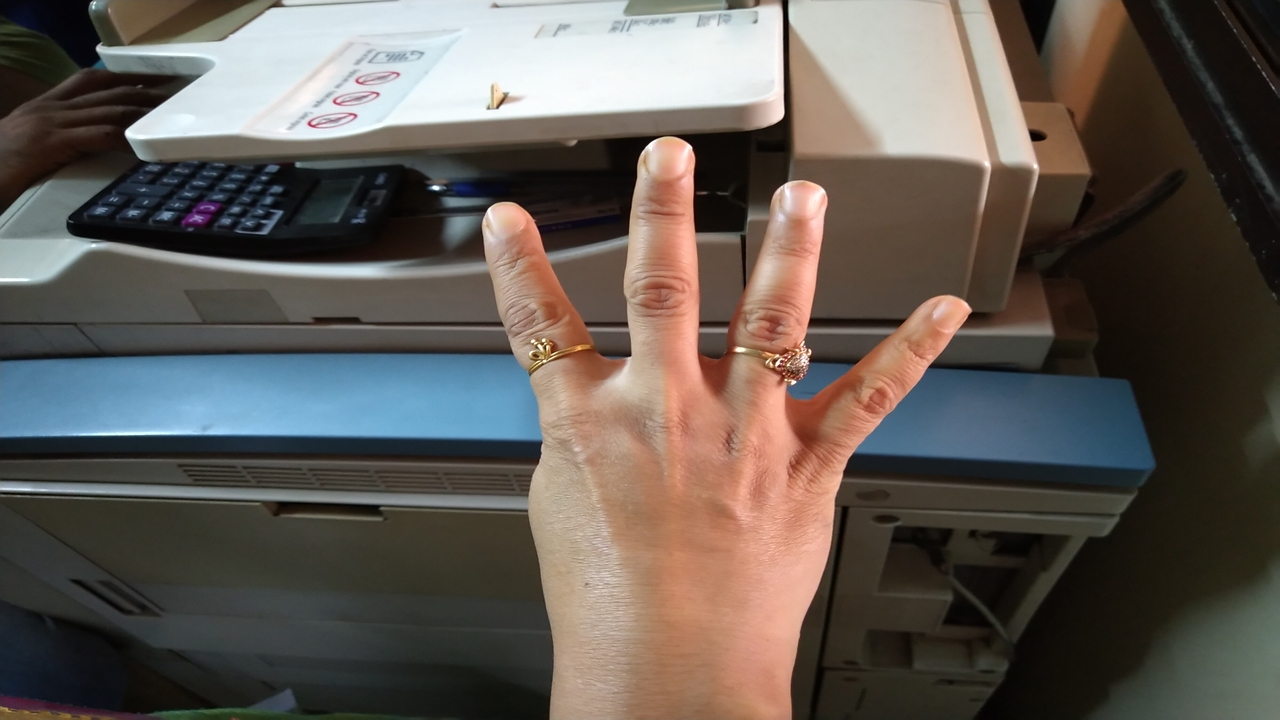fingertip: (470, 194, 544, 258), (902, 292, 982, 348), (766, 172, 832, 238), (628, 134, 694, 198)
